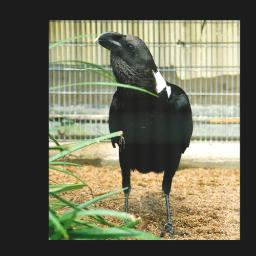Crow: (93, 31, 193, 239)
